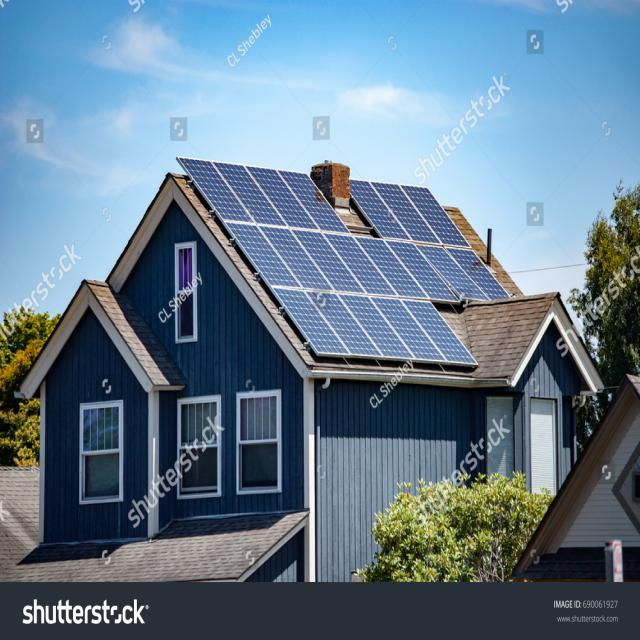clean-solar-panel: (179, 158, 509, 365)
